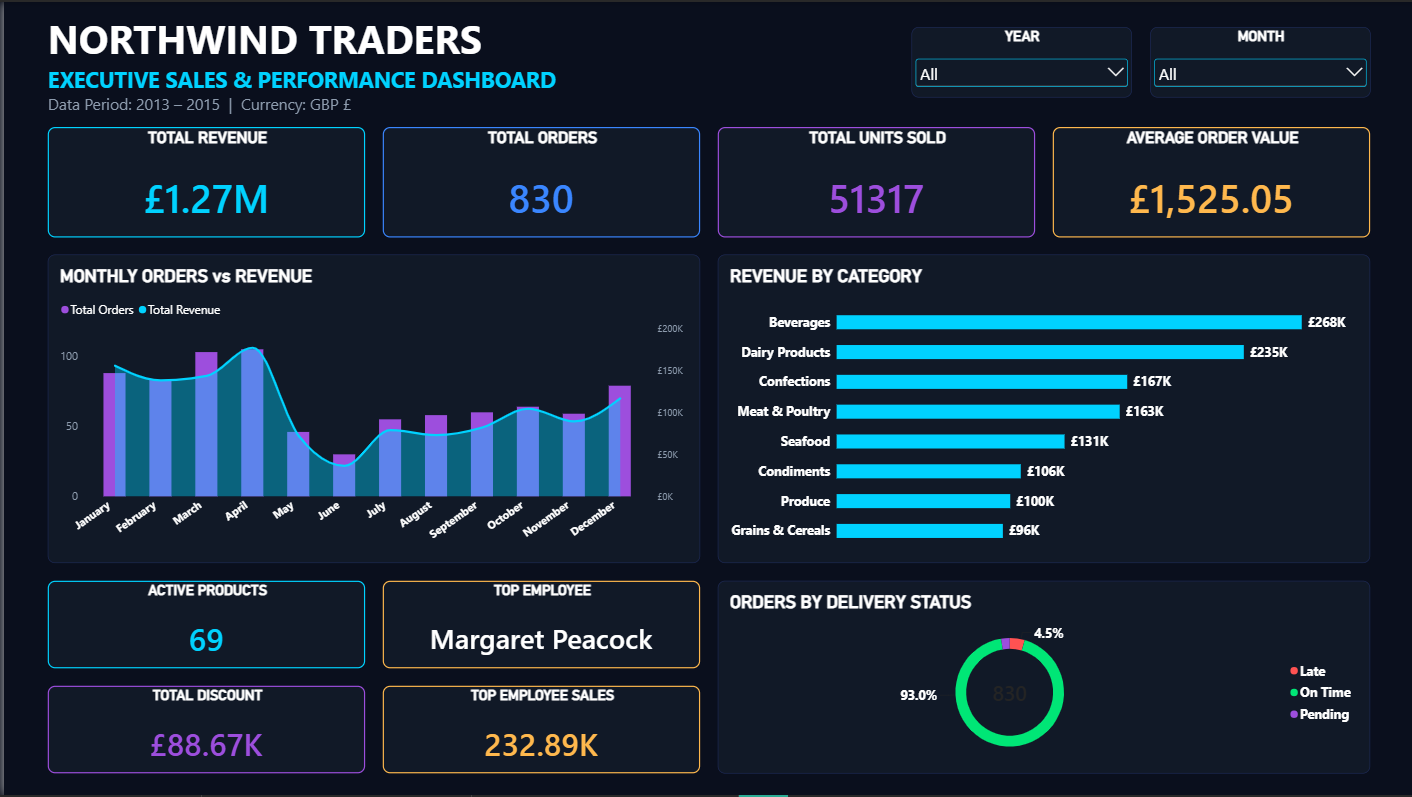

What the dashboard file says about the page in this screenshot:
{"tool":"powerbi","page":{"name":"Executive Overview","canvas":[1920,1080],"ordinal":0},"visuals":[{"type":"cardVisual","title":"TOTAL REVENUE","fields":{"Data":["_Measures.Total Revenue"]},"box":[60,170,432,150],"z":0},{"type":"cardVisual","title":"TOTAL ORDERS","fields":{"Data":["_Measures.Total Orders"]},"box":[516,170,432,150],"z":1000},{"type":"cardVisual","title":"TOTAL UNITS SOLD","fields":{"Data":["_Measures.Total Units Sold"]},"box":[972,170,432,150],"z":2000},{"type":"cardVisual","title":"AVERAGE ORDER VALUE","fields":{"Data":["_Measures.AOV"]},"box":[1428,170,432,150],"z":3000},{"type":"lineClusteredColumnComboChart","title":"MONTHLY ORDERS vs REVENUE","fields":{"Category":["Calendar.Month"],"Y":["_Measures.Total Orders"],"Y2":["_Measures.Total Revenue"]},"box":[60,344,888,420],"z":4000},{"type":"textbox","box":[60,14,820,142],"z":5000},{"type":"slicer","title":"YEAR","fields":{"Values":["Calendar.Year"]},"box":[1236,34,300,96],"z":6000},{"type":"slicer","title":"MONTH","fields":{"Values":["Calendar.Month"]},"box":[1560,34,300,96],"z":7000},{"type":"clusteredBarChart","title":"REVENUE BY CATEGORY","fields":{"Category":["categories.categoryName"],"Y":["_Measures.Total Revenue"]},"box":[972,344,888,420],"z":8000},{"type":"donutChart","title":"ORDERS BY DELIVERY STATUS","fields":{"Category":["orders.Delivery Performance"],"Y":["_Measures.Total Orders"]},"box":[972,788,888,262],"z":9000},{"type":"cardVisual","title":"TOTAL DISCOUNT","fields":{"Data":["_Measures.Total Discount Amount"]},"box":[60,931,432,119],"z":10000},{"type":"cardVisual","title":"ACTIVE PRODUCTS","fields":{"Data":["_Measures.Active Products"]},"box":[60,788,432,119],"z":11000},{"type":"cardVisual","title":"TOP EMPLOYEE","fields":{"Data":["_Measures.Top Employee Name"]},"box":[516,788,432,119],"z":12000},{"type":"cardVisual","title":"TOP EMPLOYEE SALES","fields":{"Data":["_Measures.Top Employee Sales"]},"box":[516,931,432,119],"z":13000}]}

Visuals, with their boxes in screenshot pixels (x1, y1, x2, y2), scaled from the page's 1920x1080 canvas onto the 1412x797 screenshot:
"TOTAL REVENUE" cardVisual: 44:125:362:236
"TOTAL ORDERS" cardVisual: 379:125:697:236
"TOTAL UNITS SOLD" cardVisual: 715:125:1033:236
"AVERAGE ORDER VALUE" cardVisual: 1050:125:1368:236
"MONTHLY ORDERS vs REVENUE" lineClusteredColumnComboChart: 44:254:697:564
textbox: 44:10:647:115
"YEAR" slicer: 909:25:1130:96
"MONTH" slicer: 1147:25:1368:96
"REVENUE BY CATEGORY" clusteredBarChart: 715:254:1368:564
"ORDERS BY DELIVERY STATUS" donutChart: 715:582:1368:775
"TOTAL DISCOUNT" cardVisual: 44:687:362:775
"ACTIVE PRODUCTS" cardVisual: 44:582:362:669
"TOP EMPLOYEE" cardVisual: 379:582:697:669
"TOP EMPLOYEE SALES" cardVisual: 379:687:697:775
